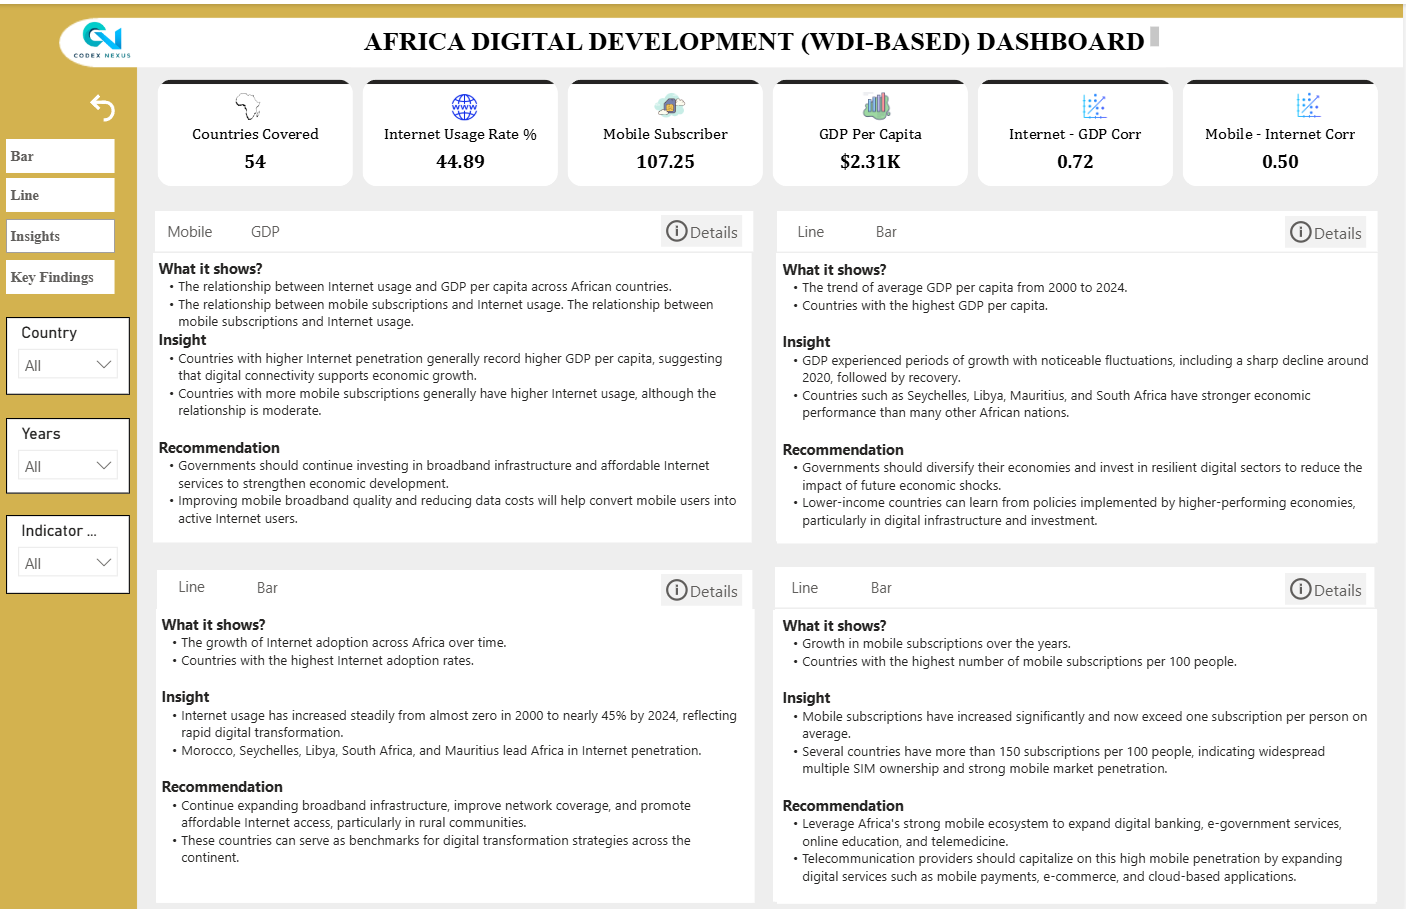

The page's visual inventory and layout, read from the dashboard file:
{"tool":"powerbi","page":{"name":"ADDD_00-24","canvas":[1280,830],"ordinal":0},"visuals":[{"type":"image","box":[186,77.5,80.5,32.5],"z":0,"group":"g1"},{"type":"textbox","box":[320,15,743,43],"z":1000},{"type":"image","box":[397.5,81.3,52.6,26.1],"z":1000,"group":"g1"},{"type":"cardVisual","fields":{"Data":["Measure.Countries Covered","Measure.Internet Usage Rate %","Measure.Avg Mobile Usage","Measure.Avg GDP Per Capita","Measure.Internet - GDP Correlation Across Country","Measure.Mobile - Internet Correlation"]},"box":[127,52,1149,131],"z":2000},{"type":"image","box":[576.7,77,66.6,32.5],"z":2000,"group":"g1"},{"type":"image","box":[62,15,60,37],"z":3000},{"type":"image","box":[968.5,80.3,60.1,26.1],"z":3000,"group":"g1"},{"type":"image","box":[769.9,80.3,60.1,26.1],"z":4000,"group":"g1"},{"type":"slicer","fields":{"Values":["Africa_Digital_Development.Years"]},"box":[5.9,377.9,113,69],"z":4000},{"type":"image","box":[1163.9,79.5,60.1,26.1],"z":5000,"group":"g1"},{"type":"slicer","fields":{"Values":["Africa_Digital_Development.Short Name"]},"box":[5.9,285.9,113,71],"z":5000},{"type":"slicer","fields":{"Values":["Africa_Digital_Development.Indicator Name"]},"box":[5.9,465.9,113,72],"z":6000},{"type":"group","id":"g1","title":"Group 1","box":[186,77,1038,33],"z":11000},{"type":"actionButton","box":[5.9,195.9,99,31],"z":27000},{"type":"actionButton","box":[5.9,158.9,99,31],"z":28000},{"type":"actionButton","box":[5.9,122.9,99,31],"z":29000},{"type":"actionButton","box":[5.9,233.9,99,31],"z":38000},{"type":"textbox","box":[140,189,1117,631],"z":39000},{"type":"actionButton","box":[76.2,77.1,44.9,34.2],"z":40000}]}

Visuals, with their boxes on the page's 1280x830 design canvas (x1, y1, x2, y2). These are canvas units, not pixel positions in the 1406x909 screenshot, which may show the page scaled, cropped or inside an application window:
image: (left=186, top=78, right=266, bottom=110)
textbox: (left=320, top=15, right=1063, bottom=58)
image: (left=398, top=81, right=450, bottom=107)
cardVisual - Measure.Countries Covered x Measure.Internet Usage Rate %: (left=127, top=52, right=1276, bottom=183)
image: (left=577, top=77, right=643, bottom=110)
image: (left=62, top=15, right=122, bottom=52)
image: (left=968, top=80, right=1029, bottom=106)
image: (left=770, top=80, right=830, bottom=106)
slicer - Africa_Digital_Development.Years: (left=6, top=378, right=119, bottom=447)
image: (left=1164, top=80, right=1224, bottom=106)
slicer - Africa_Digital_Development.Short Name: (left=6, top=286, right=119, bottom=357)
slicer - Africa_Digital_Development.Indicator Name: (left=6, top=466, right=119, bottom=538)
"Group 1" group: (left=186, top=77, right=1224, bottom=110)
actionButton: (left=6, top=196, right=105, bottom=227)
actionButton: (left=6, top=159, right=105, bottom=190)
actionButton: (left=6, top=123, right=105, bottom=154)
actionButton: (left=6, top=234, right=105, bottom=265)
textbox: (left=140, top=189, right=1257, bottom=820)
actionButton: (left=76, top=77, right=121, bottom=111)
